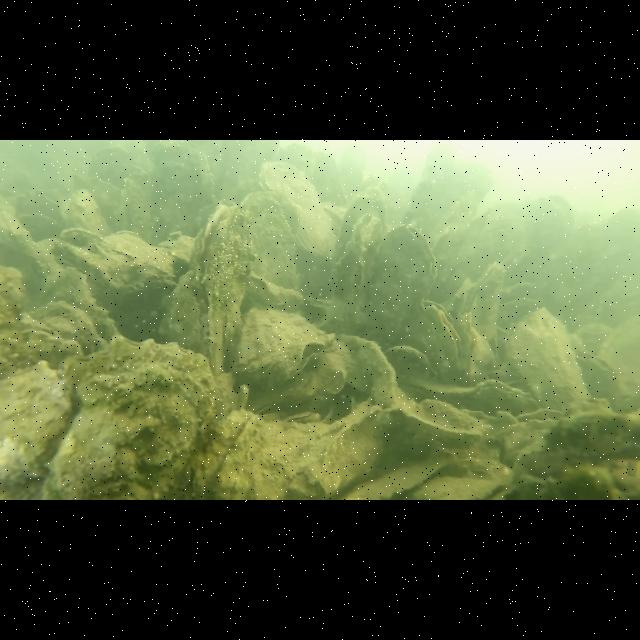Oyster-Closed: (43, 336, 215, 500), (0, 362, 76, 501), (502, 306, 590, 416), (30, 267, 121, 355), (58, 228, 176, 288), (237, 189, 303, 295), (195, 412, 263, 501), (157, 268, 206, 354), (458, 260, 504, 342), (0, 210, 58, 274), (453, 313, 495, 383), (471, 378, 537, 416), (247, 270, 300, 308), (407, 376, 478, 404), (384, 344, 431, 381), (288, 412, 324, 424)
Oyster-Open: (189, 202, 257, 378), (366, 227, 436, 345), (234, 308, 334, 382), (334, 214, 384, 312), (422, 304, 463, 374), (502, 406, 564, 452), (572, 348, 618, 402)
